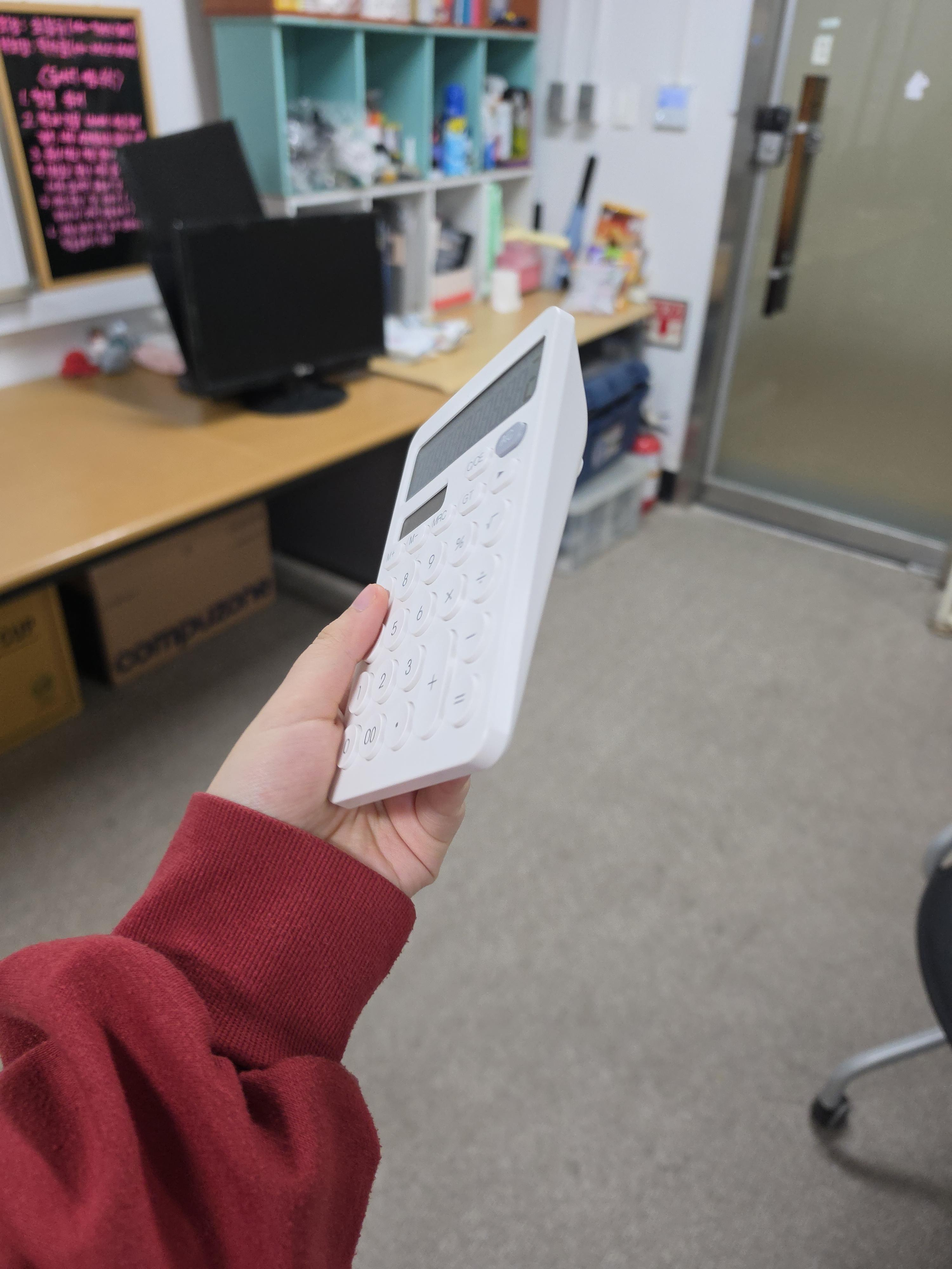calculator: (329, 306, 589, 808)
